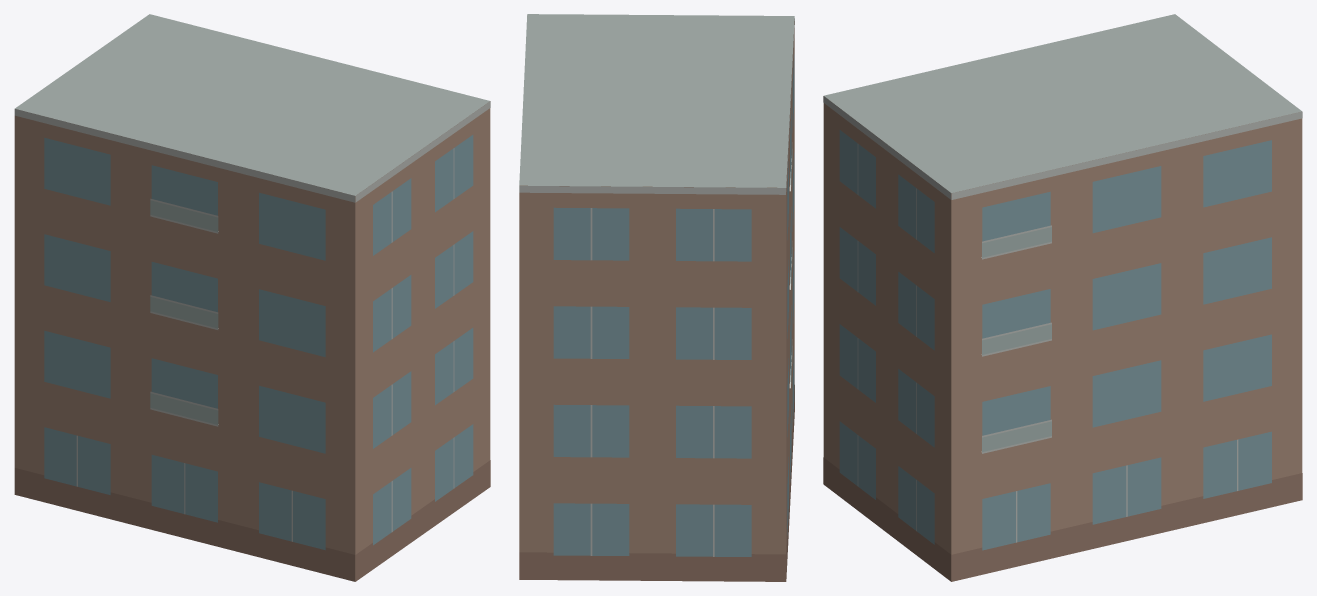
Rendered from survey-upis-32695344.glb.
3 renders of one model, left to right at view 1: azimuth 30°, elevation 25°; view 2: azimuth 150°, elevation 25°; view 3: azimuth 270°, elevation 25°, orthographic. The views are drawn at different scales.
Visible parts, largest first — view 1: survey-upis-32695344.tmp; view 2: survey-upis-32695344.tmp; view 3: survey-upis-32695344.tmp.
Boxes of the visible parts, <box> form: survey-upis-32695344.tmp: <box>14,14,490,581</box>; survey-upis-32695344.tmp: <box>519,14,794,581</box>; survey-upis-32695344.tmp: <box>823,14,1302,581</box>.
Size of the model in its own units: 13.56 by 13.7 by 15.31.
